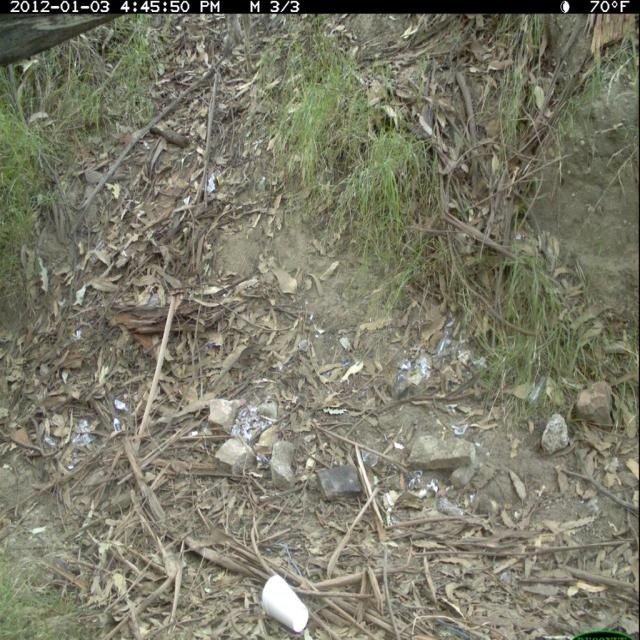coyote: (216, 12, 258, 76)
